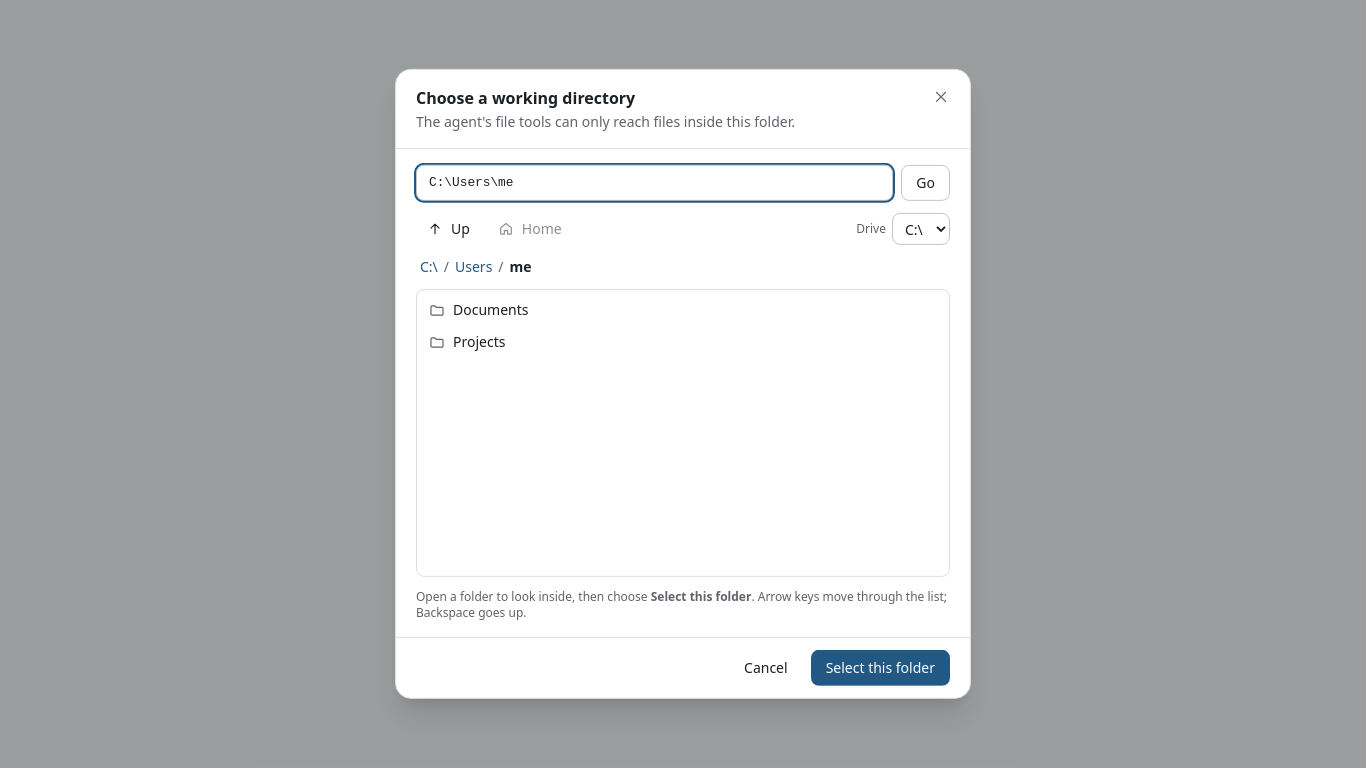
Scenario: FolderPickerDialog › goes to a typed path and shows an error for a bad one, keeping the last folder
The width and height of the screenshot is (1366, 768).
Expected: the text "me" is shown, left=510, top=257, right=532, bottom=276
Replace the text in the field named "folder path" with "C:\\Nope": [655, 183] box left=416, top=165, right=893, bottom=201
Then press Enter
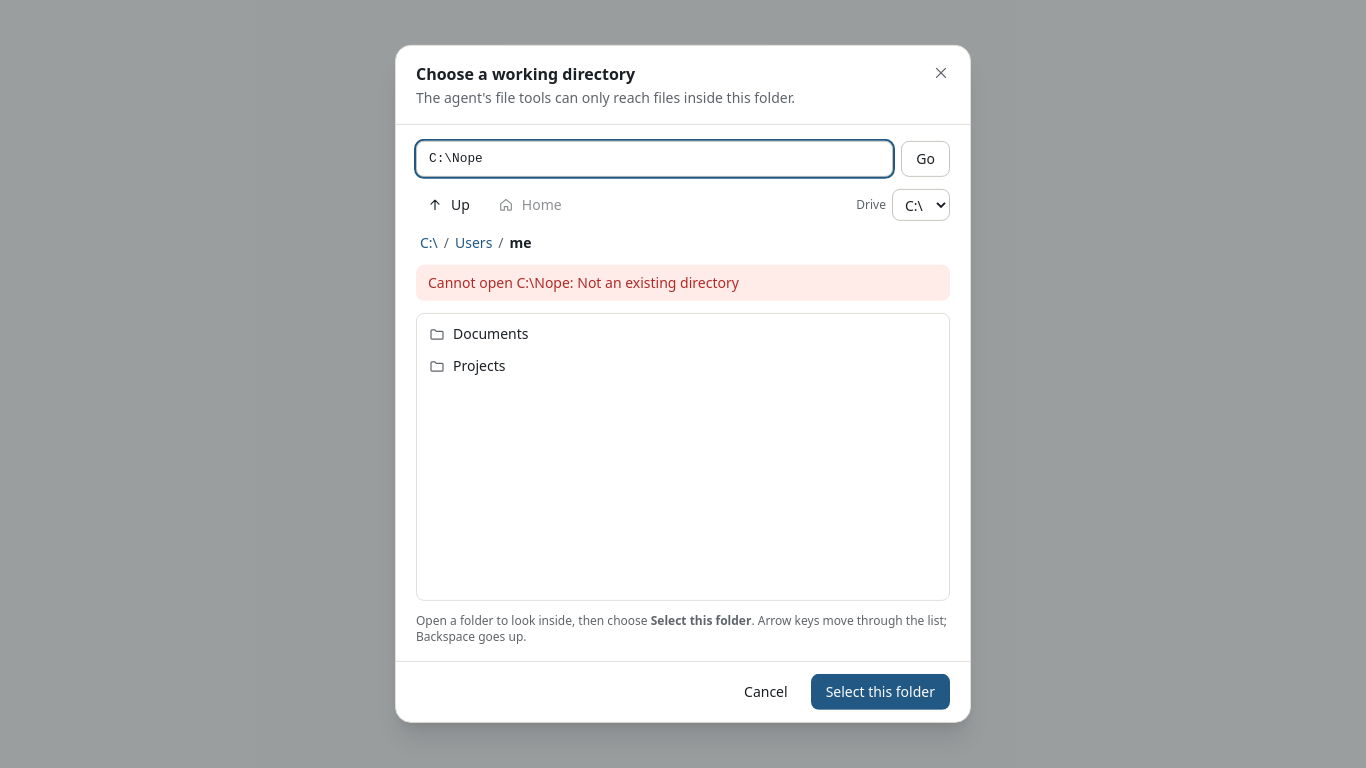
Expected: the text "me" is shown, left=510, top=233, right=532, bottom=252
Now the message reads "Cannot open C:\\Nope: Not an existing directory", box left=428, top=273, right=739, bottom=292
Replace the text in the field named "folder path" with "D:\\Data": [655, 159] box left=416, top=141, right=893, bottom=177
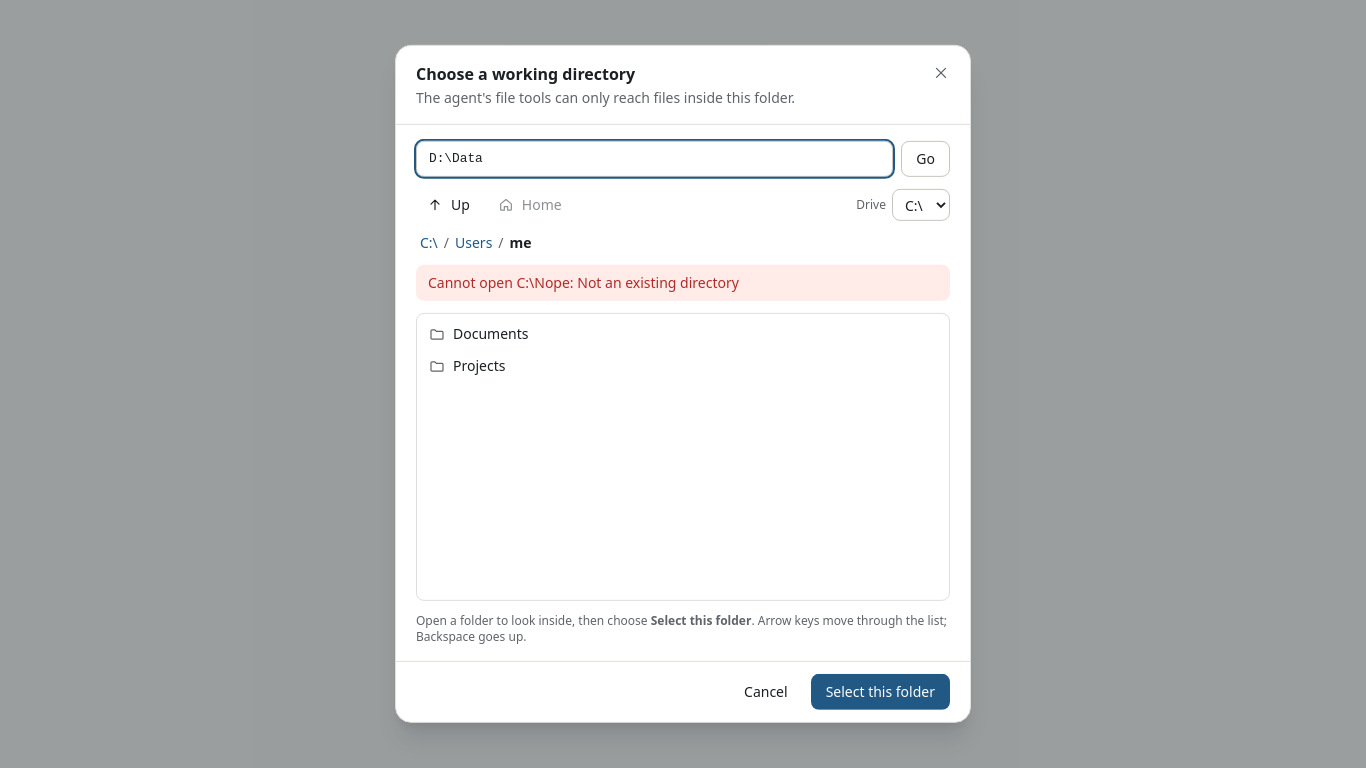
Click the button "Go": [926, 159] box left=901, top=141, right=950, bottom=177
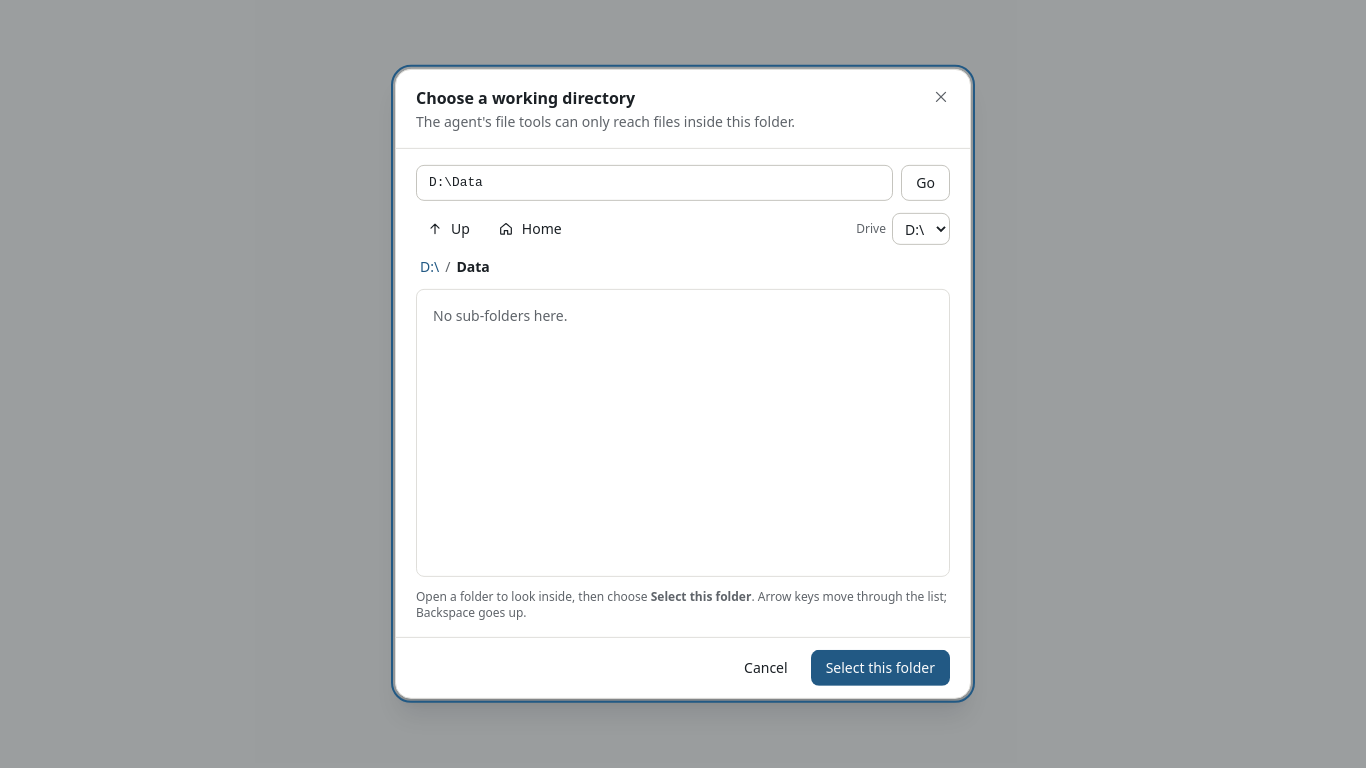
Now the text "Data" is shown, box left=456, top=257, right=490, bottom=276
Now the message "Cannot open C:\\Nope: Not an existing directory" is gone
